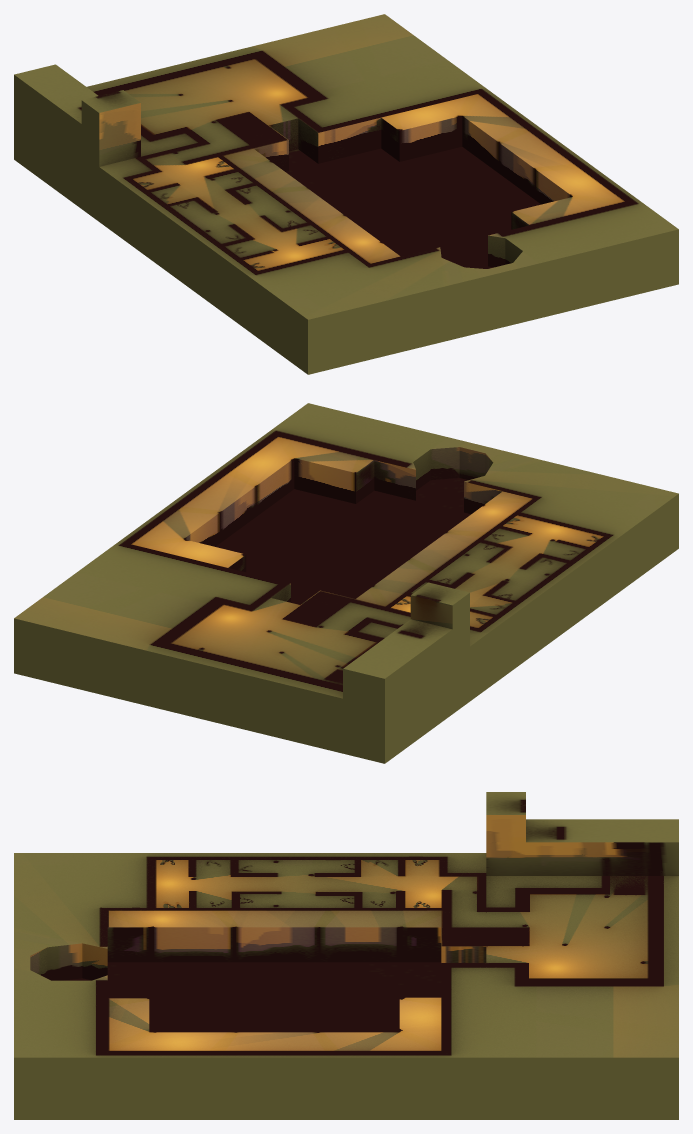
Rendered from dungeon2_ground.obj.
3 renders of one model, top to bottom at view 1: azimuth 30°, elevation 25°; view 2: azimuth 150°, elevation 25°; view 3: azimuth 270°, elevation 25°, orthographic. The views are drawn at different scales.
Visible parts, largest first — view 1: Cube.514_Cube.862; view 2: Cube.514_Cube.862; view 3: Cube.514_Cube.862.
Part boxes in pixels (x1=…): Cube.514_Cube.862: x1=14, y1=14, x2=678, y2=374; Cube.514_Cube.862: x1=14, y1=403, x2=678, y2=763; Cube.514_Cube.862: x1=14, y1=792, x2=678, y2=1119.
Size of the model in its own units: 14.1 by 3.96 by 19.37.
Materials: 1 (1 with a texture image).
